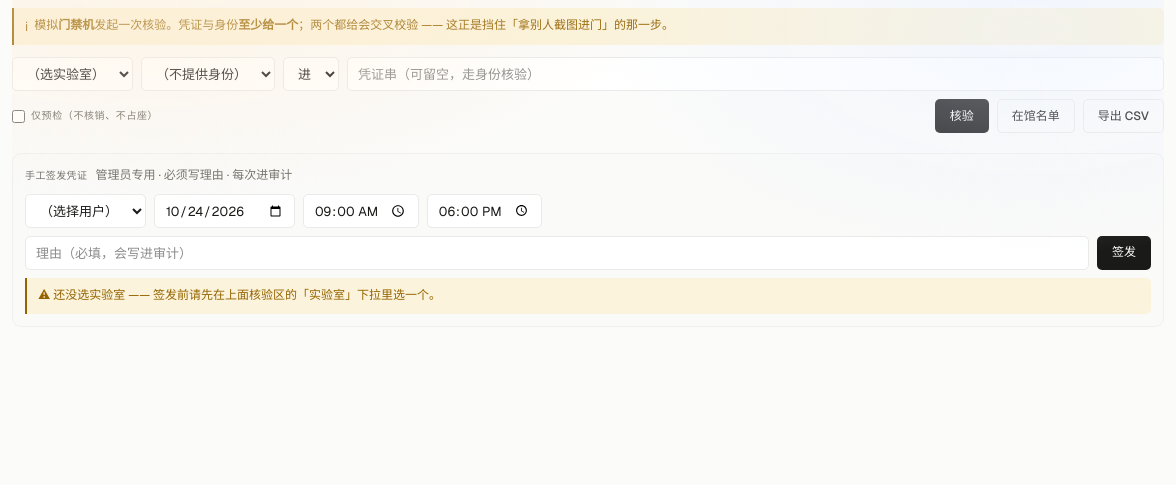
Test case: GateSimPane › 放行时显示「放行」，不是查出空白的红色标签
This screenshot has width=1176, height=485.
Select "光谱实验室" in the dropdown named "实验室" at (72, 74), box [12, 57, 133, 91]
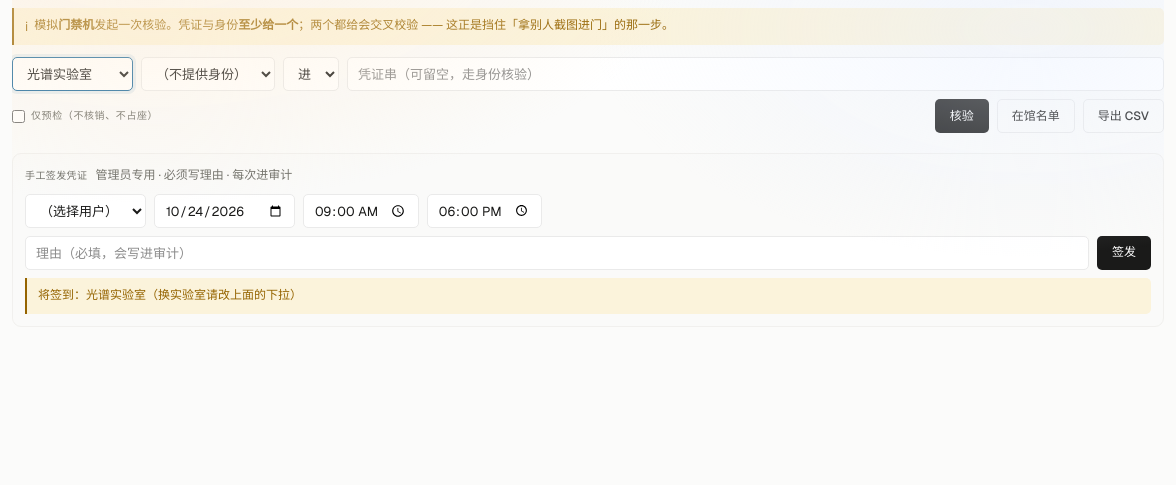
Type "permit-abc" into the field with placeholder "凭证串（可留空，走身份核验）" at (756, 74), box [347, 57, 1164, 91]
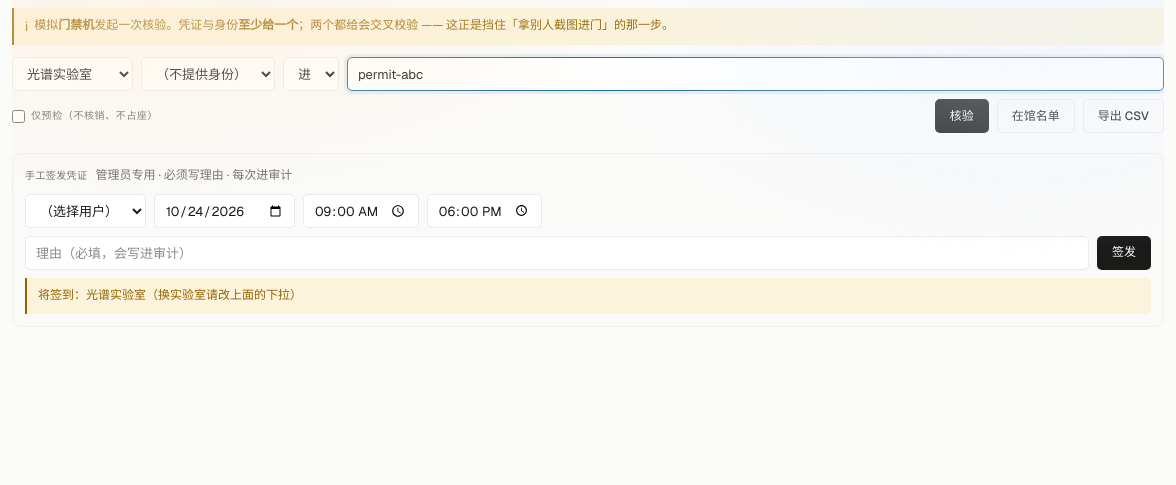
Click the button "核验" at (962, 116), box [935, 99, 989, 133]
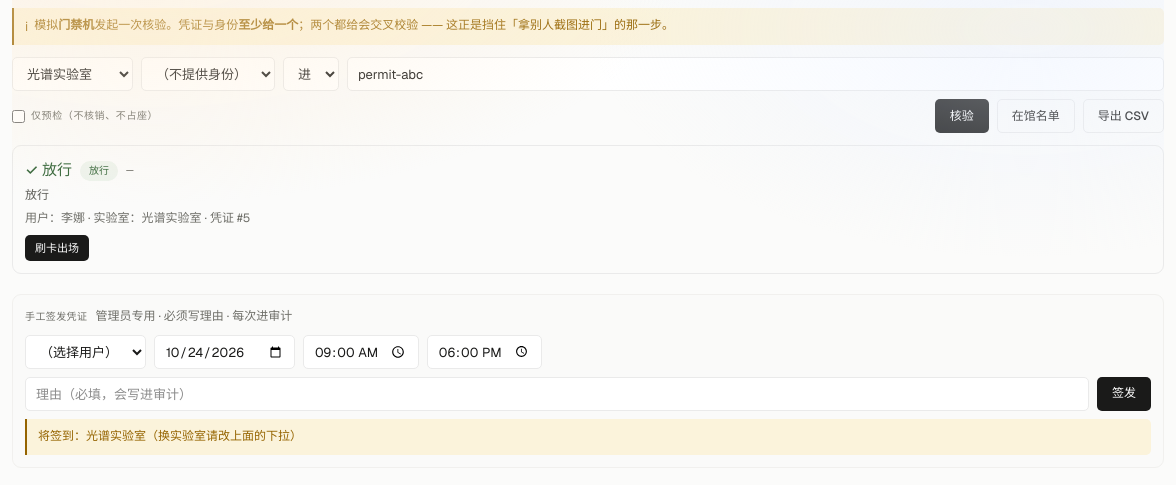
expect the text "✓ 放行" is shown: met, box [25, 158, 72, 183]
expect the text "放行" next to "✓ 放行" is shown: met, box [89, 164, 109, 177]
